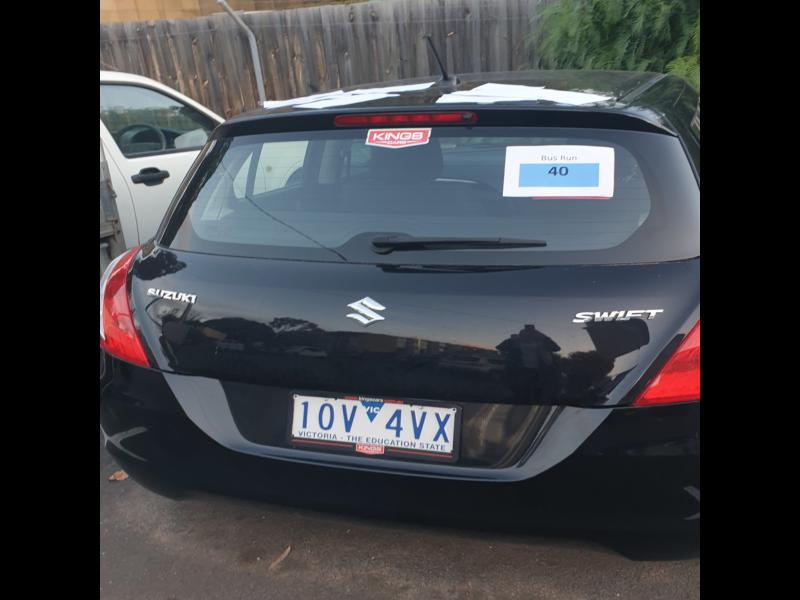BusRun: (519, 160, 601, 191)
PlateNo: (289, 389, 457, 458)
